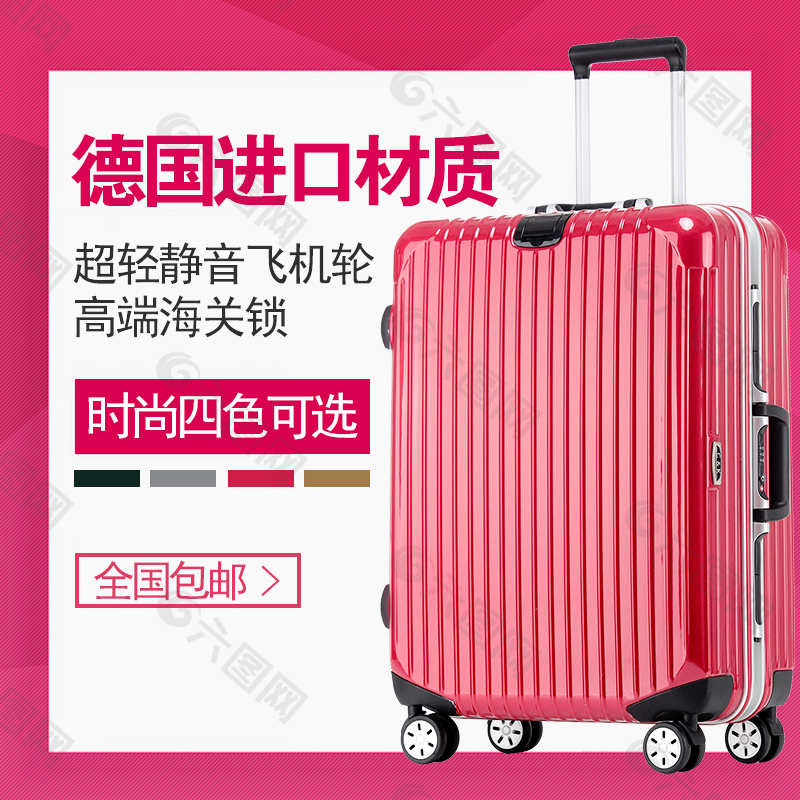box: (391, 204, 794, 724)
handle: (752, 401, 790, 523), (528, 197, 653, 215)
lock: (756, 424, 767, 499)
wheel: (643, 722, 706, 774), (401, 713, 461, 764), (725, 715, 784, 764), (485, 719, 543, 753)
